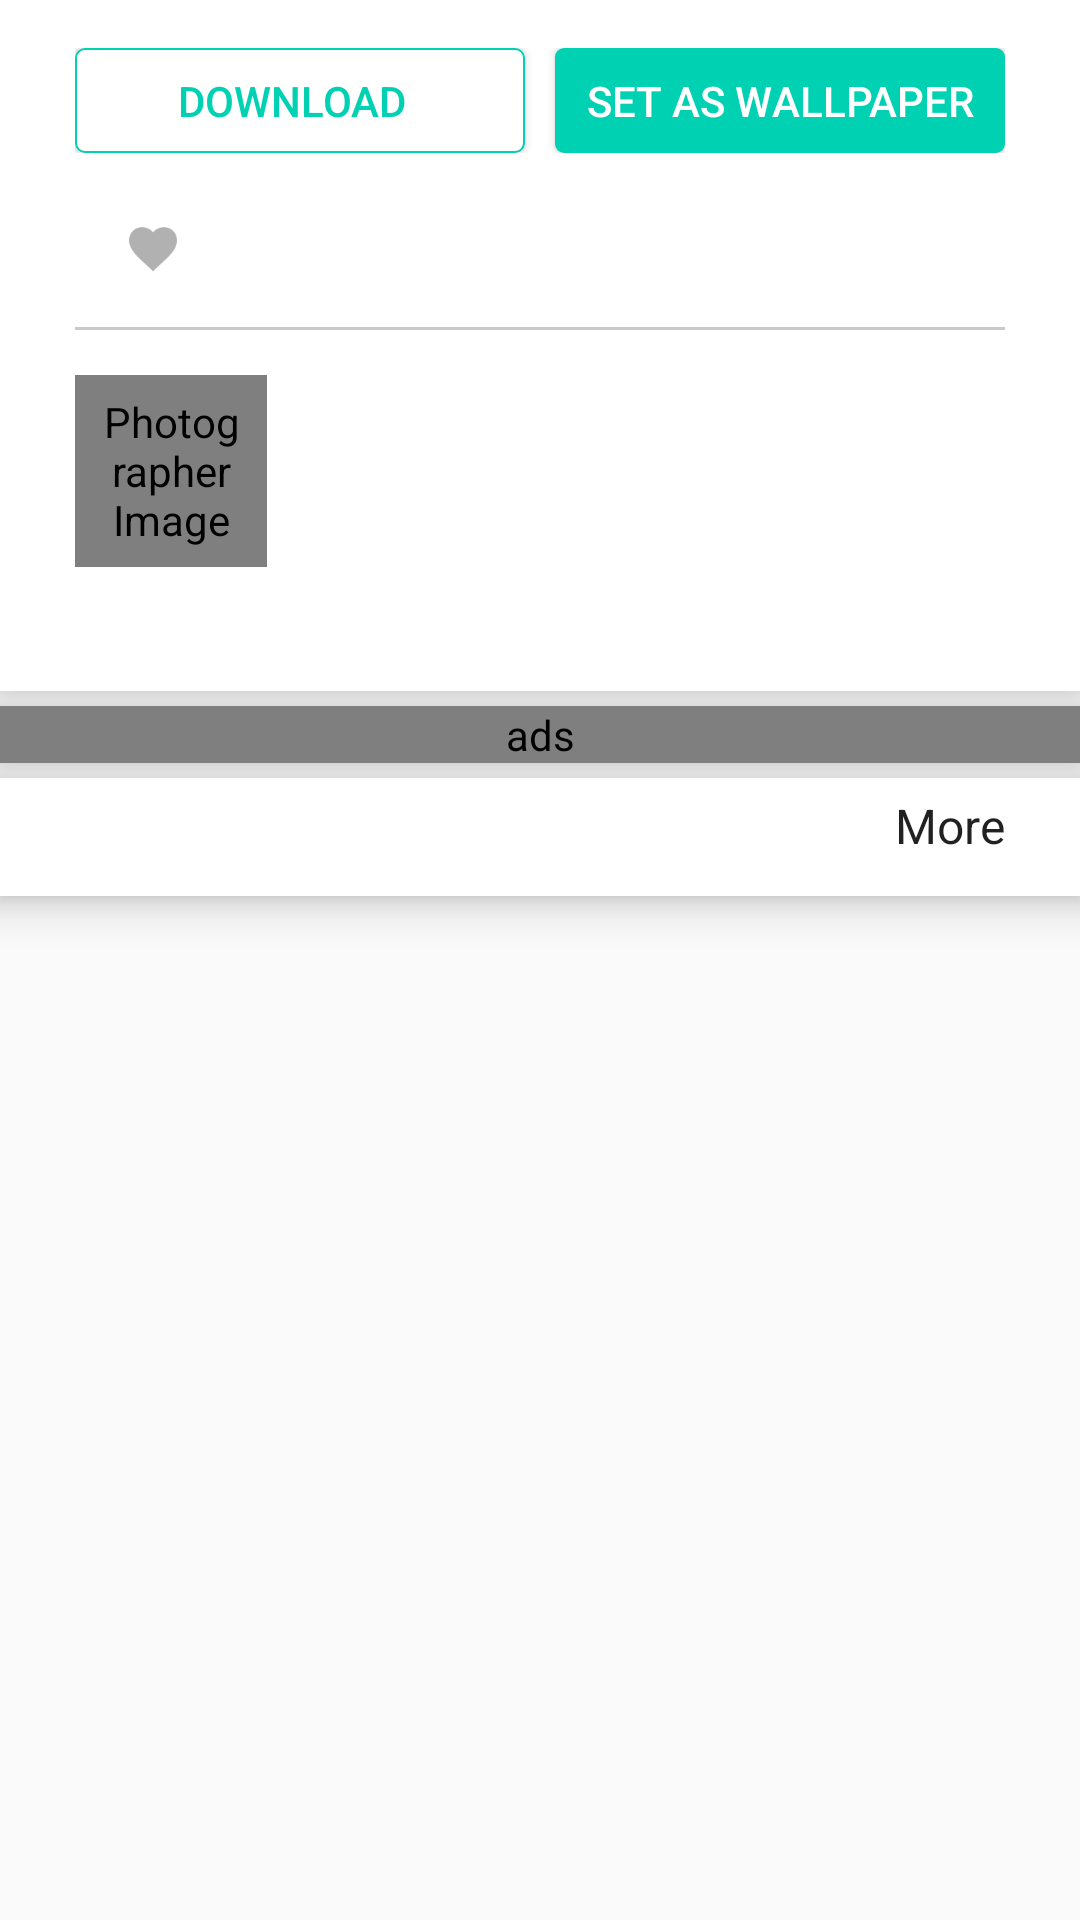

Screen size 1080×1920. Icon name, then its box in pixels as bbox=[x1, y1, x2, y2]:
like: bbox=[129, 227, 177, 271]
